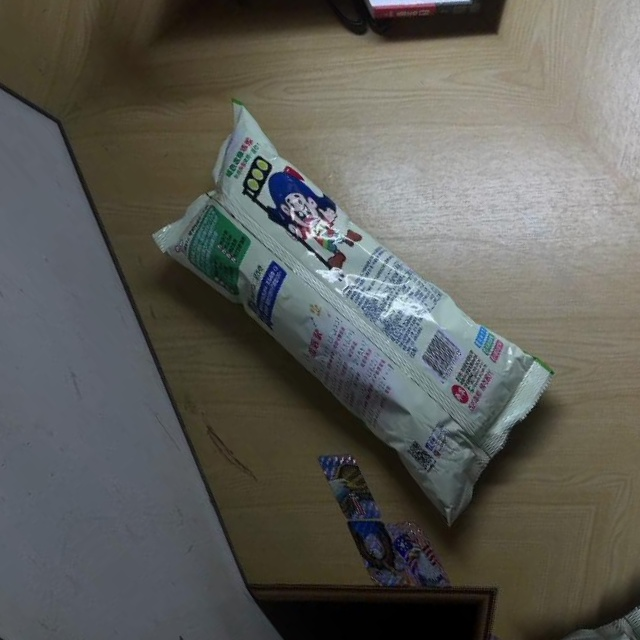Good-Luck: (114, 51, 588, 554)
